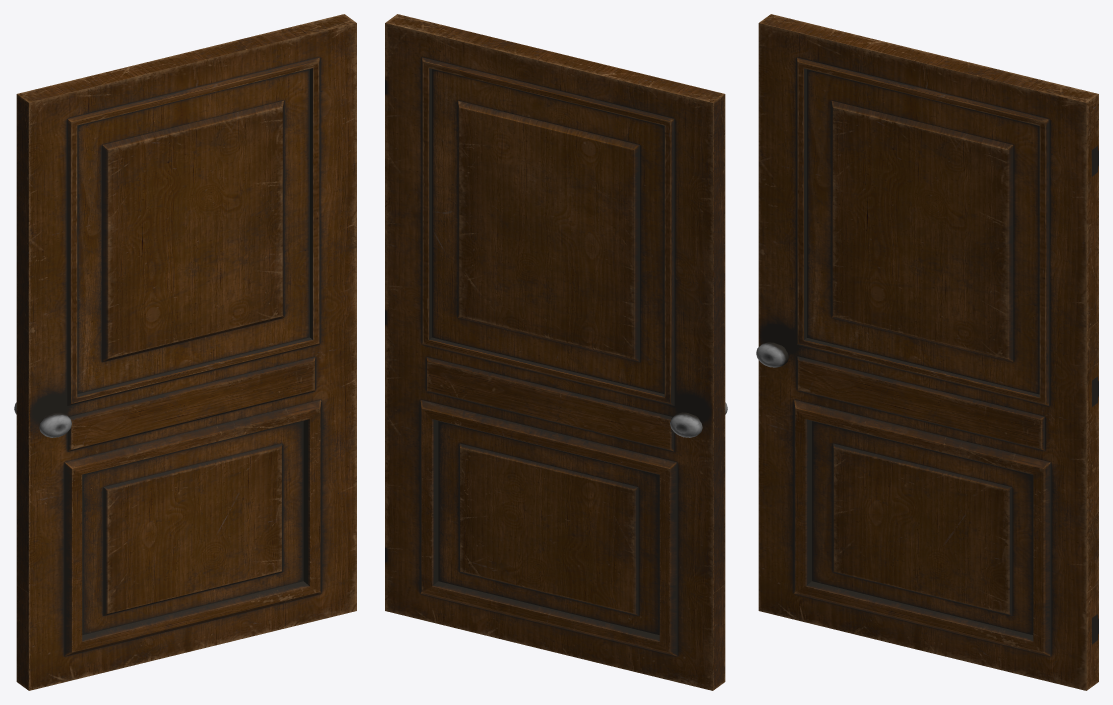
File: door1.glb
The picture shows the model from 3 angles, left to right: view 1: azimuth 30°, elevation 25°; view 2: azimuth 150°, elevation 25°; view 3: azimuth 330°, elevation 25°; orthographic projection.
Parts seen in each view (by area): view 1: door_door_0, handel_door_0; view 2: door_door_0, handel_door_0; view 3: door_door_0, handel_door_0.
Boxes of the visible parts, x1,y1,x2,y2 form: door_door_0: (16, 14, 356, 690); handel_door_0: (14, 402, 71, 437); door_door_0: (385, 14, 725, 690); handel_door_0: (670, 402, 727, 437); door_door_0: (758, 14, 1098, 690); handel_door_0: (756, 342, 788, 367).
Bounding box in the file's own units: 1.71 × 2.93 × 0.3129.
Materials: 1 (1 with a texture image).
